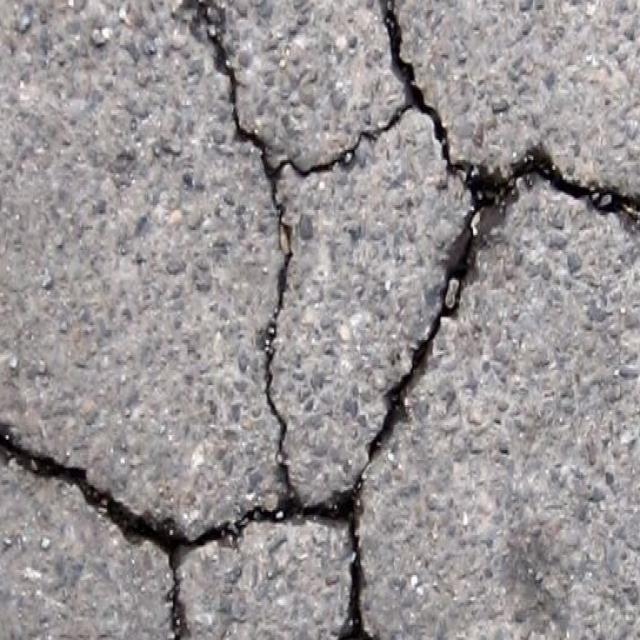crack: (2, 424, 379, 565), (379, 202, 505, 455), (185, 1, 291, 180), (459, 144, 639, 227), (292, 98, 456, 180), (262, 178, 297, 426), (381, 1, 426, 100), (165, 566, 190, 638)
